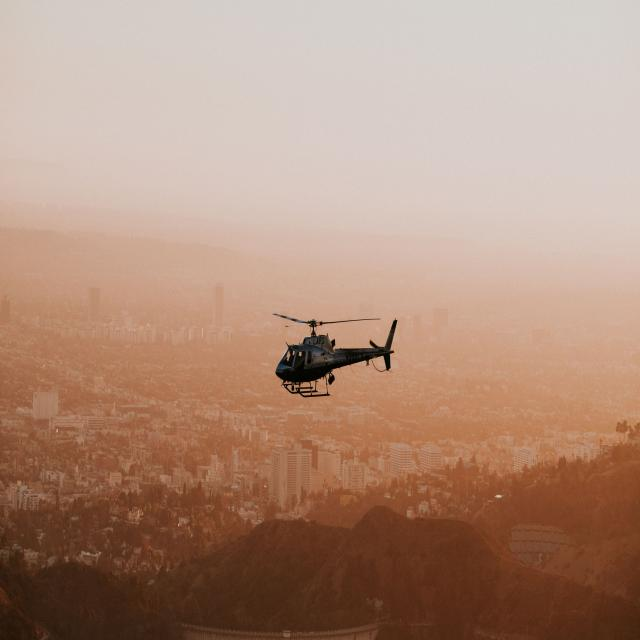helicopter: (276, 314, 400, 401)
